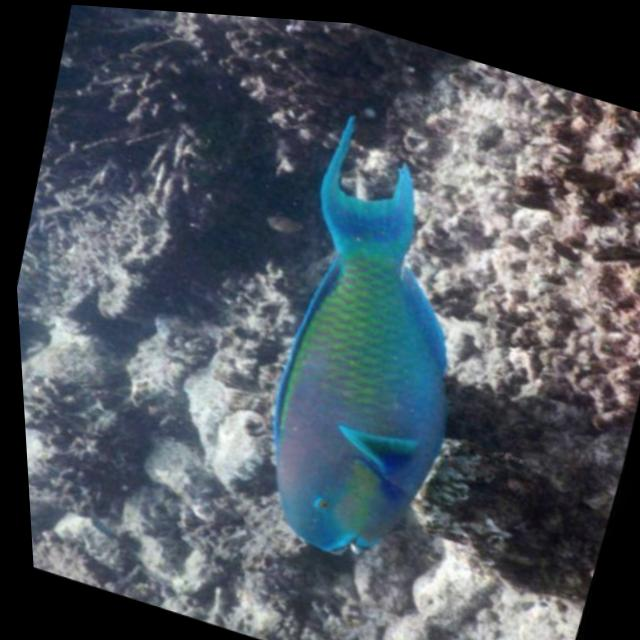Dead Coral: (24, 1, 423, 285)
